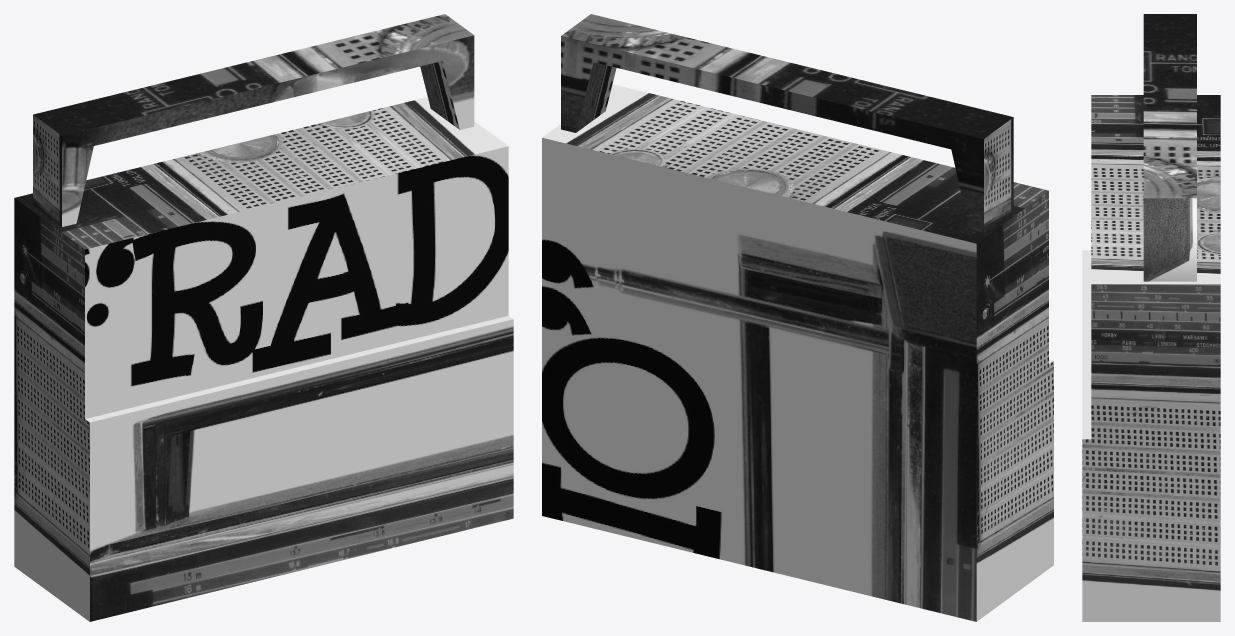
File: radio.fbx
3 views of the same model, side by side, from view 1: azimuth 30°, elevation 25°; view 2: azimuth 150°, elevation 25°; view 3: azimuth 270°, elevation 25° (orthographic). The views are drawn at different scales.
Visible parts, largest first — view 1: pCube12; view 2: pCube12; view 3: pCube12.
Part boxes in pixels (x1,y1,x2,y2): pCube12: (14, 14, 513, 621); pCube12: (542, 14, 1053, 621); pCube12: (1082, 14, 1220, 621).
Bounding box in the file's own units: 0.6991 × 0.7255 × 0.2155.
Materials: 1 (1 with a texture image).
